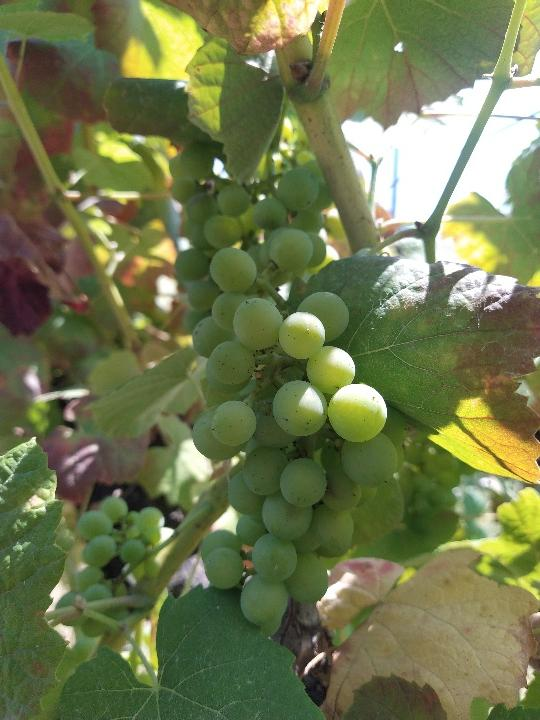grape: (197, 227, 409, 640)
